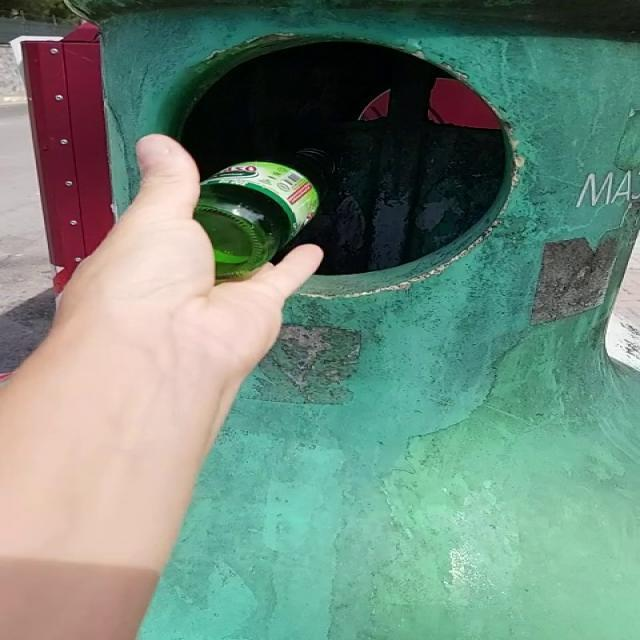Glass: (193, 148, 332, 279)
